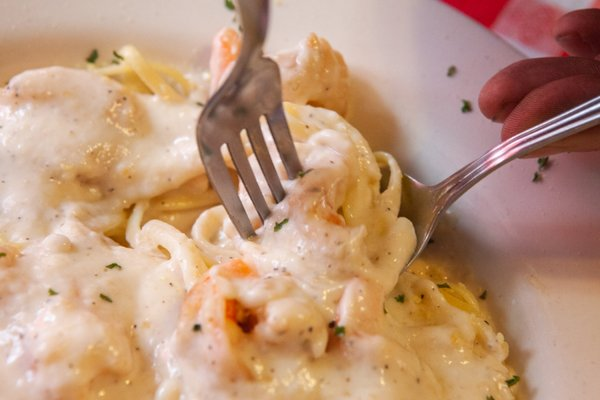burger: (376, 91, 600, 297), (195, 0, 304, 240)
